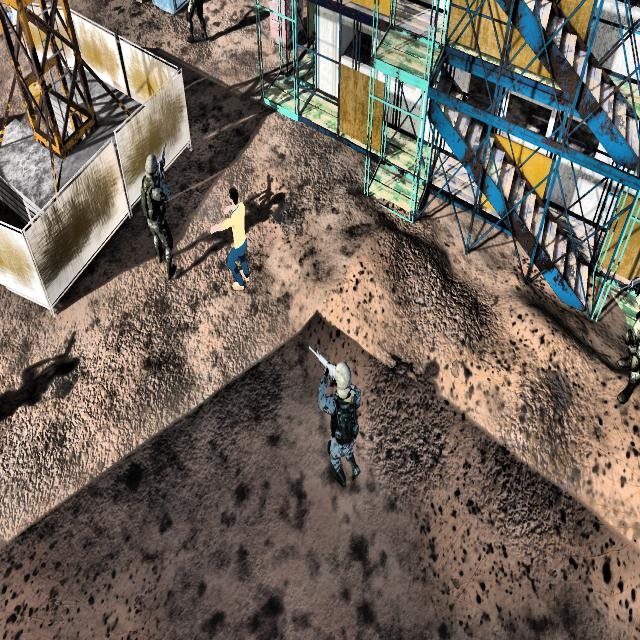bad: (308, 328, 365, 499), (137, 148, 182, 292), (178, 0, 212, 49)
good: (210, 176, 256, 303)
